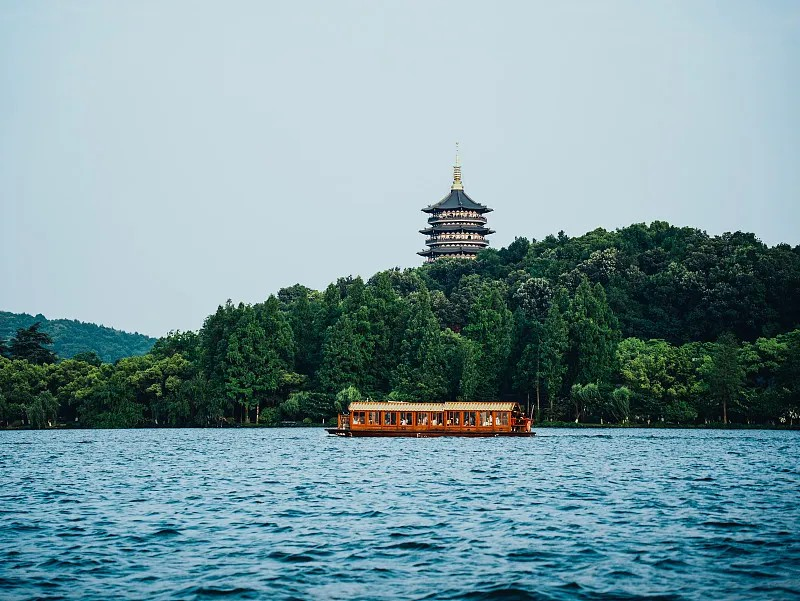Leifeng: (419, 141, 496, 266)
